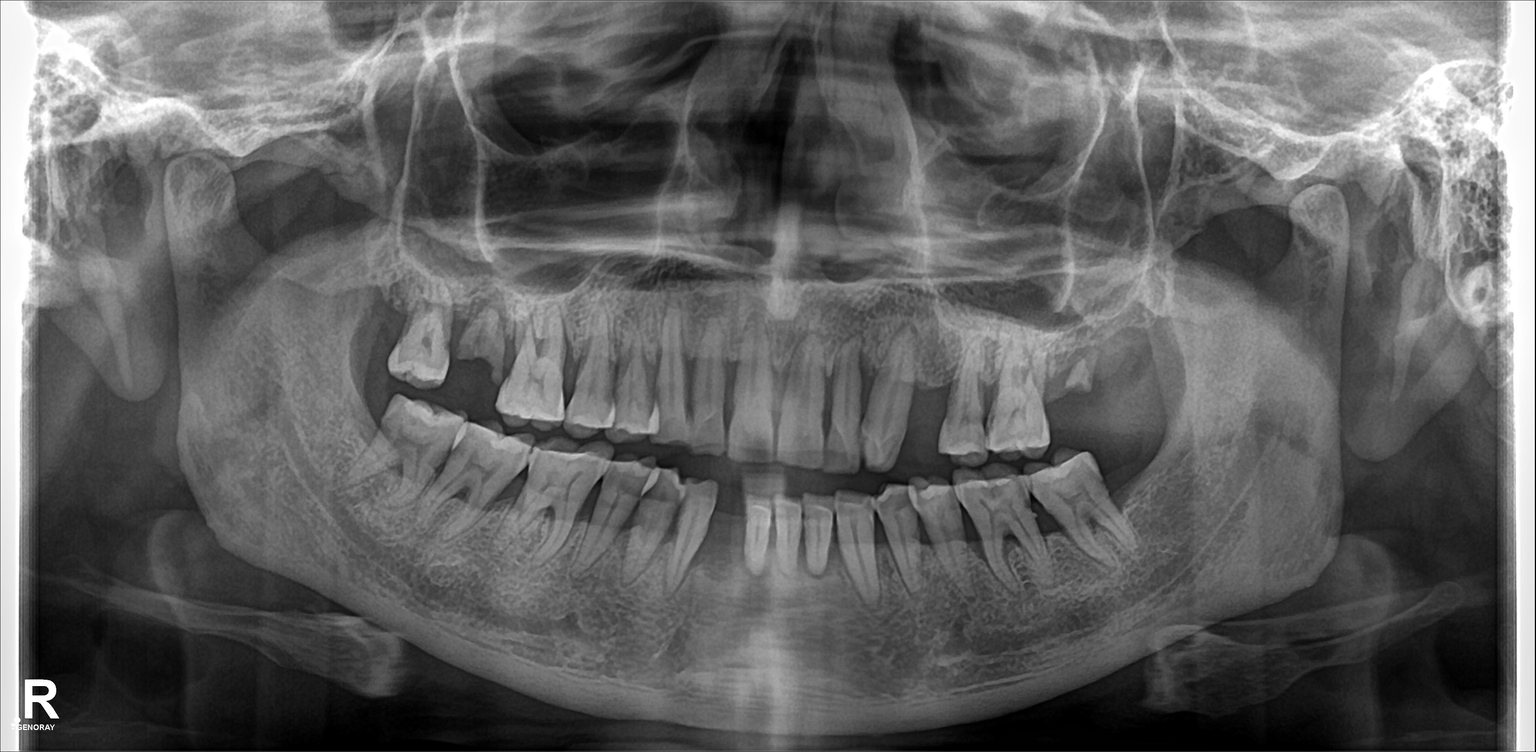Dental Caries: (976, 484, 1013, 520)
Missing Tooth: (363, 277, 404, 372), (1102, 344, 1147, 428), (1110, 449, 1156, 523), (918, 348, 951, 451), (711, 488, 751, 569)
Retained Root: (453, 303, 507, 393), (1058, 354, 1091, 428)
